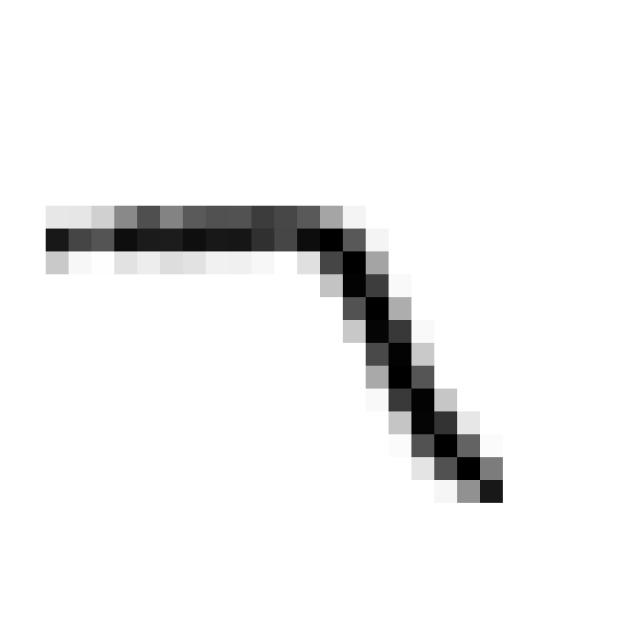6 -six-: (25, 180, 529, 530)
